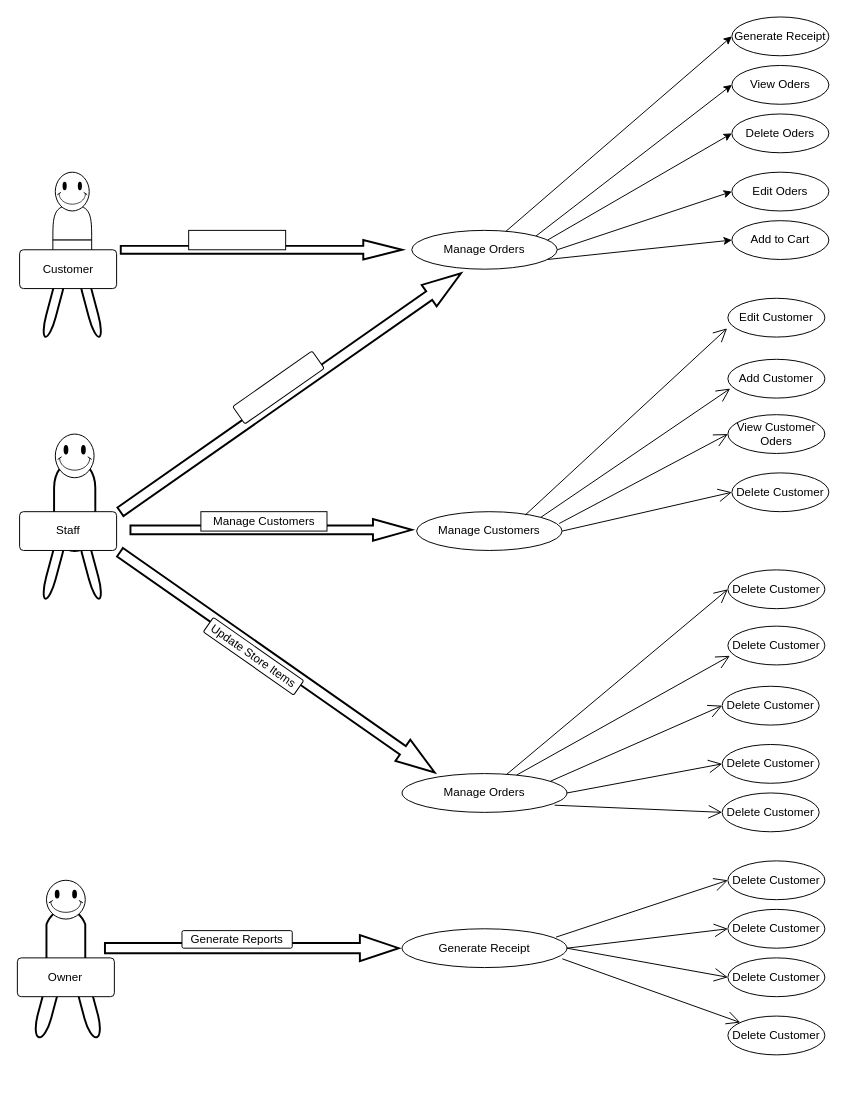
Image size: 846x1099. Some labels were removed from this diagram. Here are the shapes that lost their labels. From the top down, the box of each, then its label:
(188, 229, 286, 250): Place Oder
(232, 350, 325, 424): View / Edit Oders
